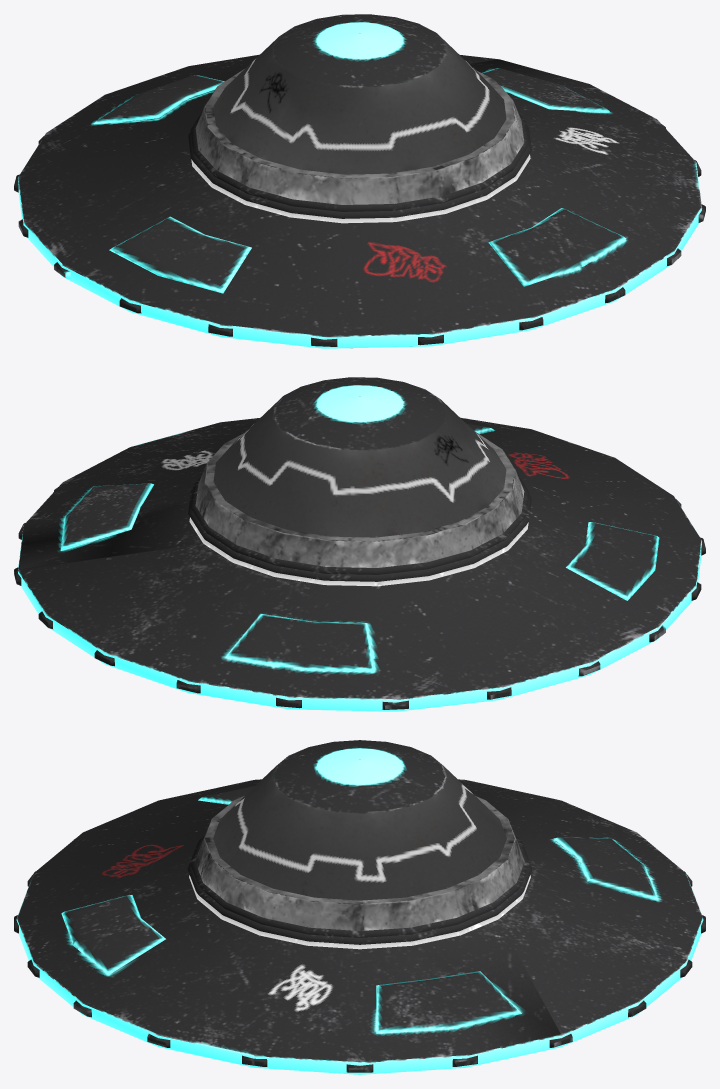
The model's file is alien2.glb.
The picture shows the model from 3 angles, top to bottom: view 1: azimuth 30°, elevation 25°; view 2: azimuth 150°, elevation 25°; view 3: azimuth 270°, elevation 25°; orthographic projection.
Parts seen in each view (by area): view 1: Cylinder001; view 2: Cylinder001; view 3: Cylinder001.
Boxes of the visible parts, bbox=[...] form: Cylinder001: bbox=[14, 14, 705, 348]; Cylinder001: bbox=[14, 377, 705, 711]; Cylinder001: bbox=[14, 740, 705, 1074].
Size of the model in its own units: 202 by 79.06 by 202.
Materials: 1 (1 with a texture image).
